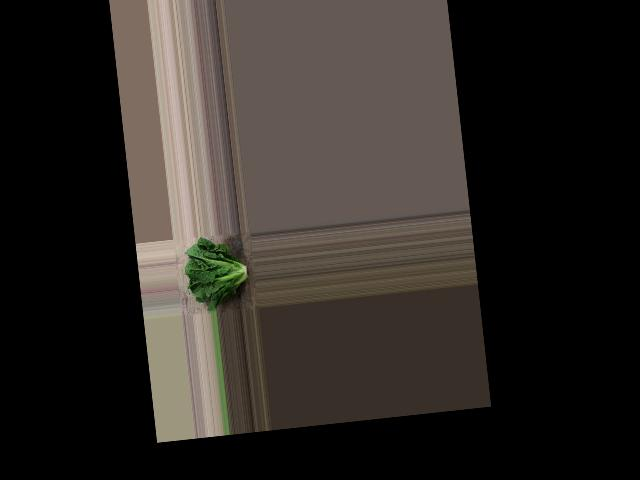lettuce: (179, 234, 256, 313)
